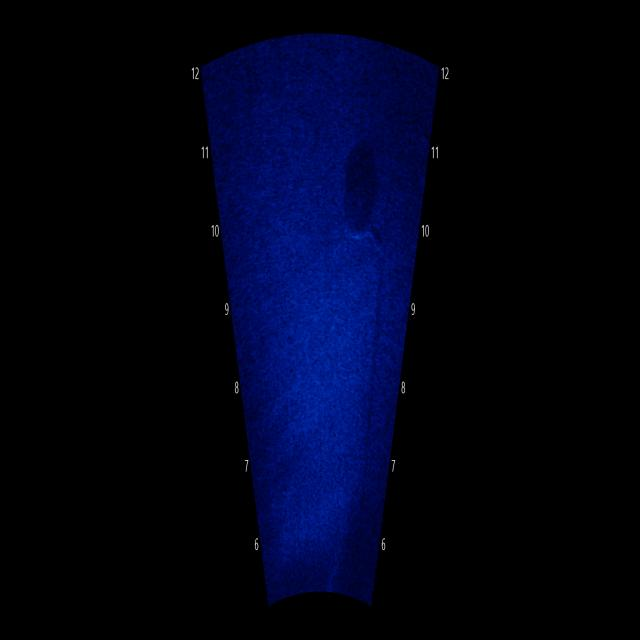circle: (332, 132, 392, 253)
